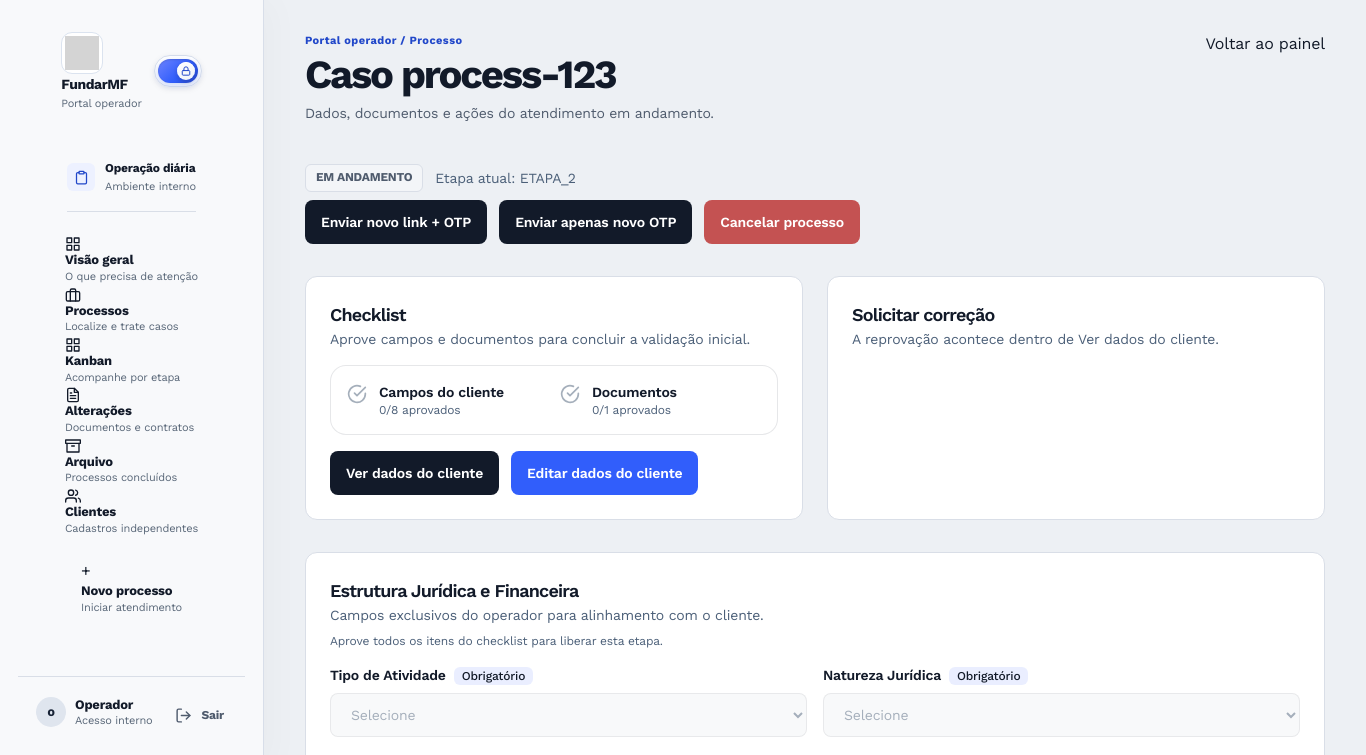
Test: OperatorProcess › abre o modal e mostra dados do cliente
Click the button "Ver dados do cliente": (415, 473) 330,451 -> 499,495
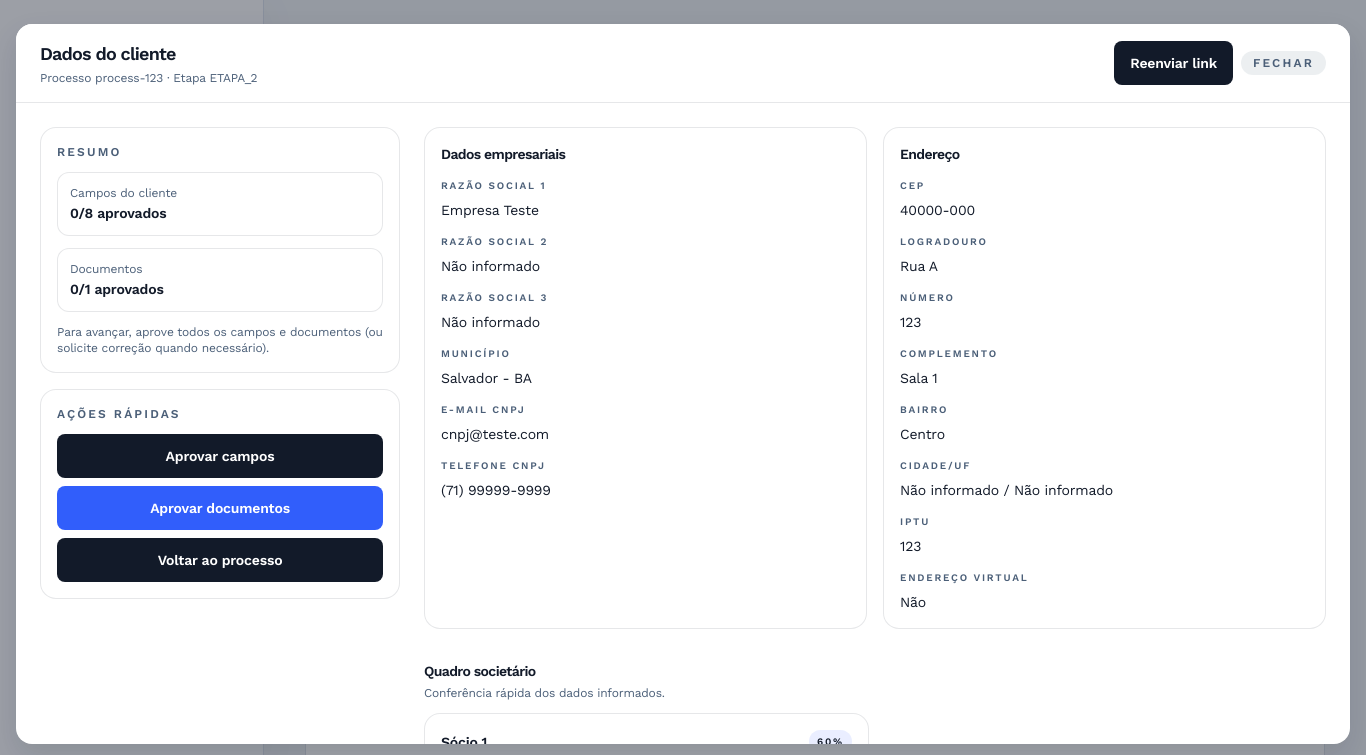
Result: the heading "Dados do cliente" is shown at 40,43 -> 176,64
Result: the text "Razão social 1" is shown at 441,180 -> 546,191
Result: the text "Empresa Teste" is shown at 441,202 -> 539,218
